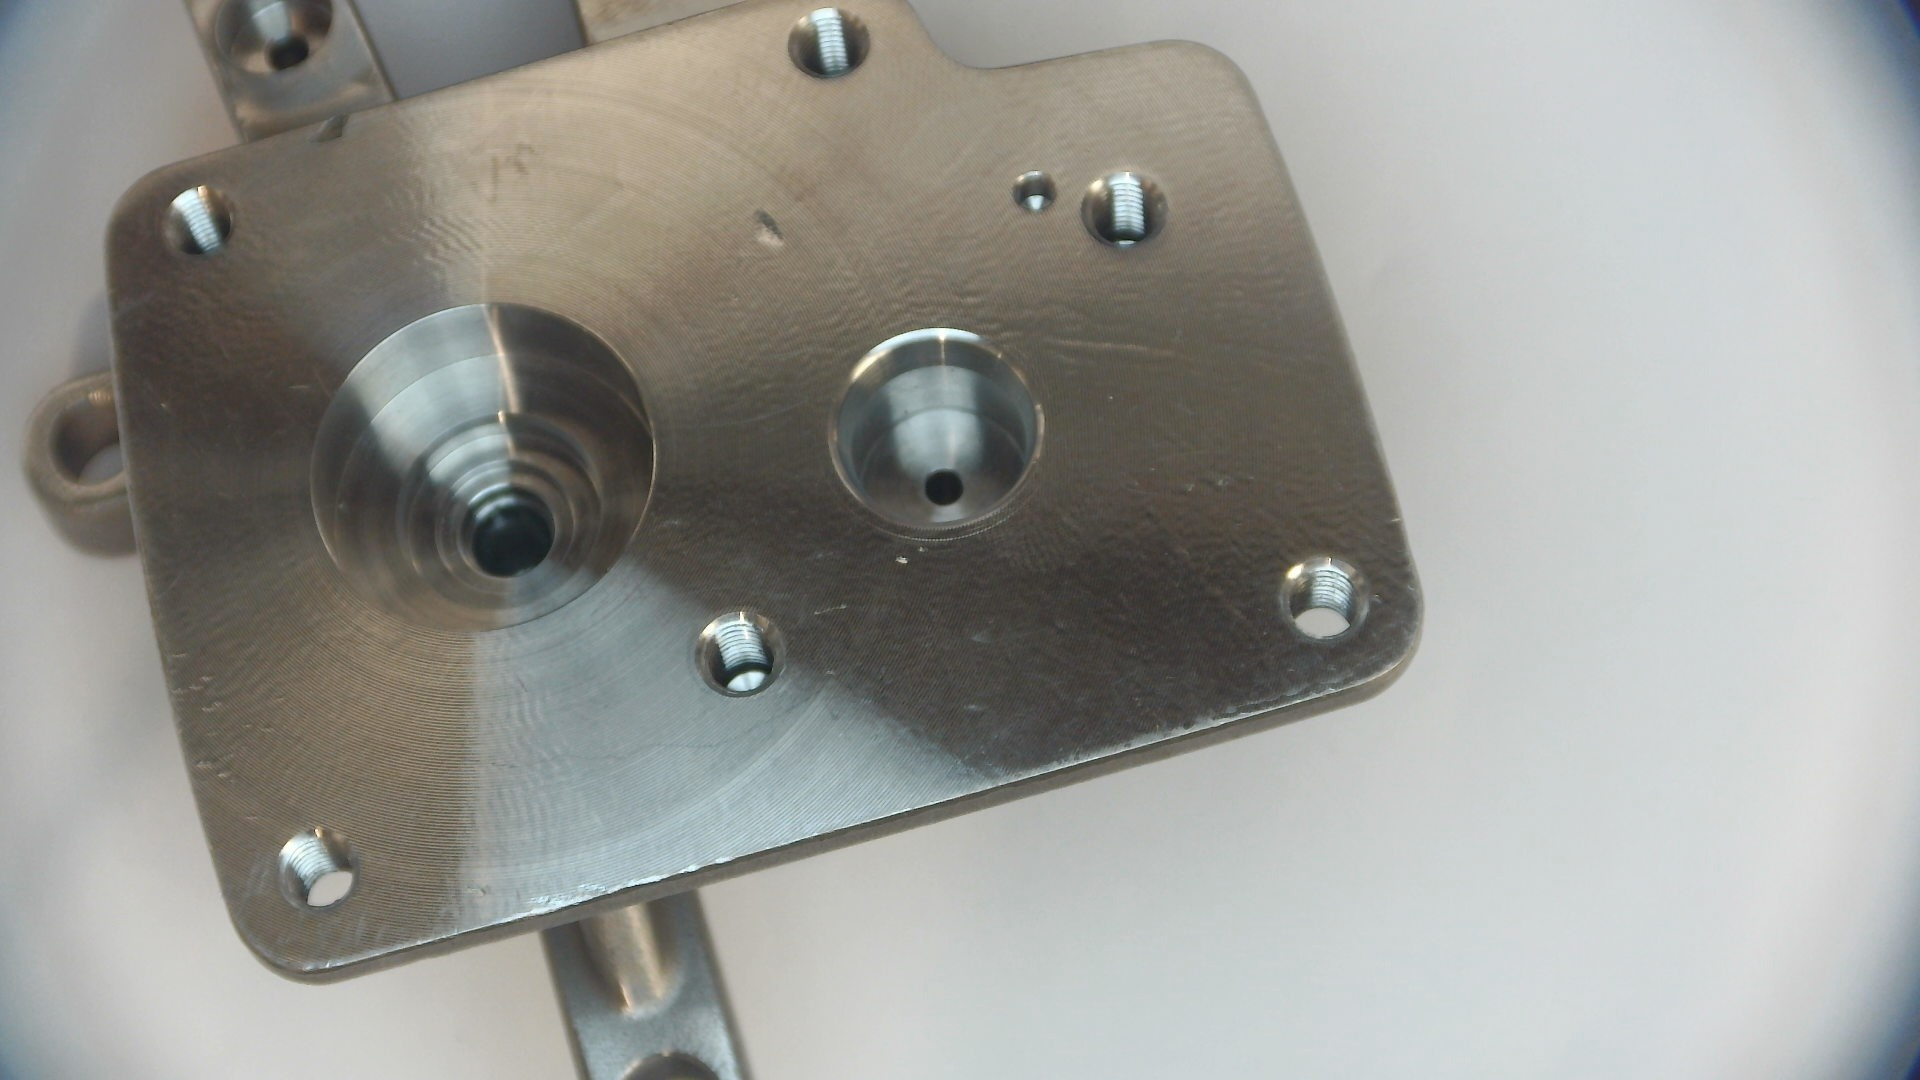dent: (738, 203, 790, 262), (305, 111, 351, 146), (894, 553, 911, 566), (916, 545, 928, 555)
thread_presence: (1283, 558, 1360, 626), (1083, 171, 1163, 236), (278, 833, 353, 902), (702, 617, 775, 683), (796, 11, 865, 73), (167, 191, 232, 252)
